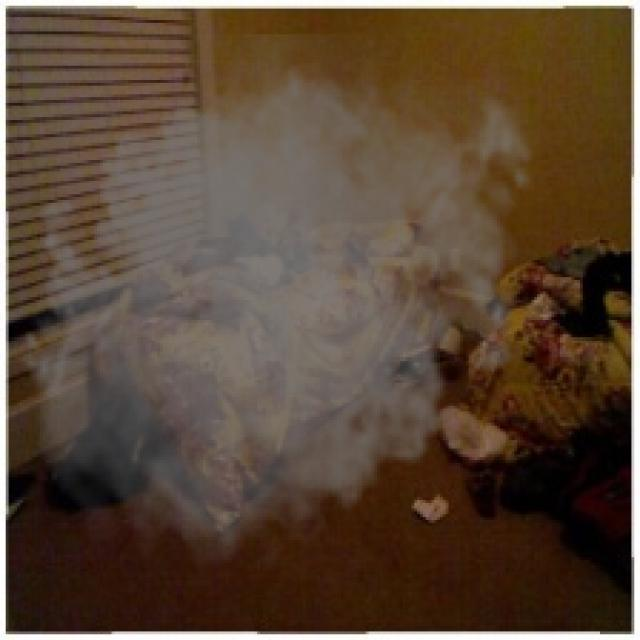Smoke: (11, 34, 548, 586)
